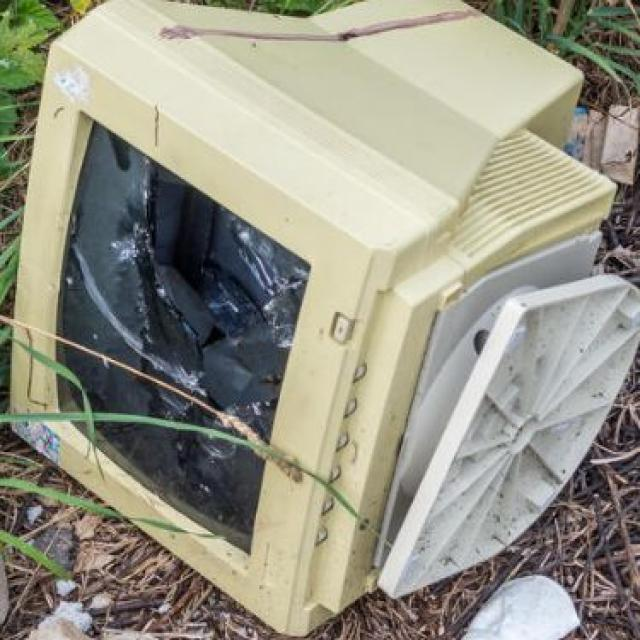electronic: (7, 0, 638, 638)
